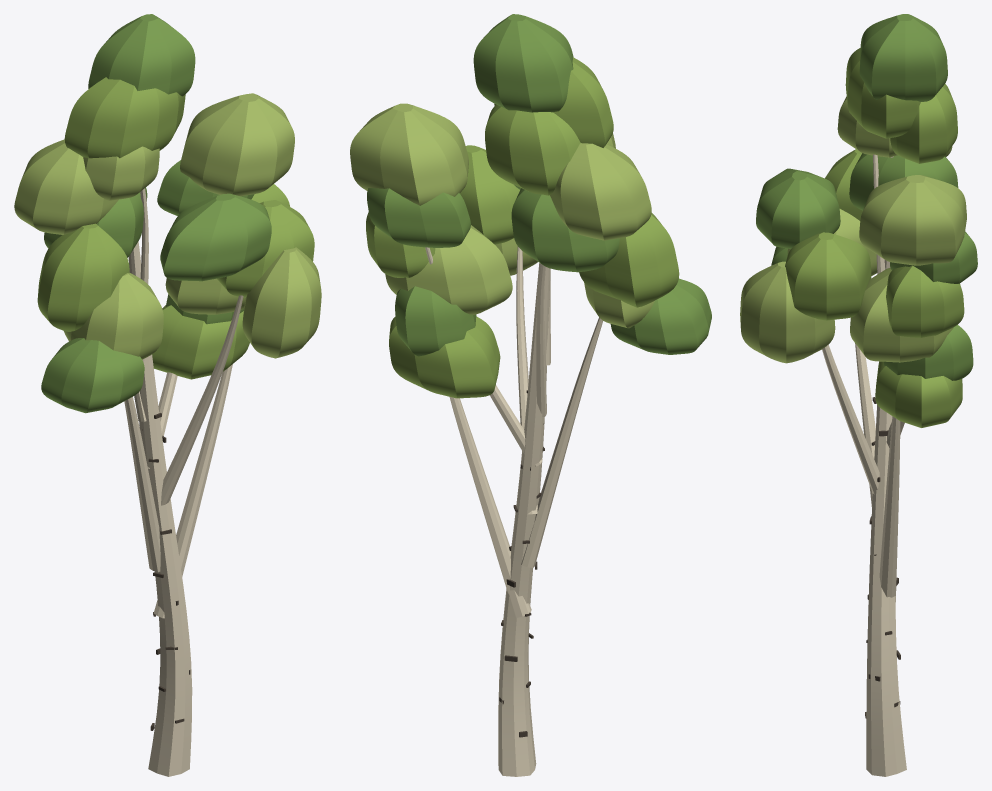
File: silver_birch.glb
3 renders of one model, left to right at view 1: azimuth 30°, elevation 25°; view 2: azimuth 150°, elevation 25°; view 3: azimuth 270°, elevation 25°, orthographic. The views are drawn at different scales.
Parts seen in each view (by area): view 1: Birch leader, Birch leaves 4.3, Birch leaves 3.3, Birch leaves 6.2, Birch leaves 2.3, Birch leaves 3.1, Birch leaves 5.2, Birch leaves 6.3, Birch leaves 2.1, Birch leaves 2.2, Birch leaves 1.1, Birch leaves 3.2 (+10 smaller); view 2: Birch leader, Birch leaves 4.3, Birch leaves 6.3, Birch leaves 5.2, Birch leaves 5.3, Birch leaves 1.3, Birch leaves 1.1, Birch leaves 2.3, Birch leaves 5.1, Birch leaves 4.2, Birch leaves 2.1, Birch leaves 1.2 (+10 smaller); view 3: Birch leader, Birch leaves 4.3, Birch leaves 6.3, Birch leaves 3.2, Birch leaves 3.1, Birch leaves 3.3, Birch leaves 4.1, Birch leaves 1.1, Birch leaves 1.3, Birch leaves 5.3, Birch leaves 6.2, Birch leaves 5.1 (+8 smaller).
Part boxes in pixels (bbox=[...]): Birch leader: bbox=[128, 241, 192, 776]; Birch leaves 4.3: bbox=[180, 93, 294, 196]; Birch leaves 3.3: bbox=[160, 193, 271, 281]; Birch leaves 6.2: bbox=[64, 77, 185, 158]; Birch leaves 2.3: bbox=[37, 223, 129, 331]; Birch leaves 3.1: bbox=[242, 247, 321, 358]; Birch leaves 5.2: bbox=[14, 139, 118, 234]; Birch leaves 6.3: bbox=[88, 14, 195, 96]; Birch leaves 2.1: bbox=[41, 338, 144, 413]; Birch leaves 2.2: bbox=[64, 273, 163, 359]; Birch leaves 1.1: bbox=[152, 305, 249, 379]; Birch leaves 3.2: bbox=[217, 200, 314, 297]; Birch leader: bbox=[498, 263, 550, 776]; Birch leaves 4.3: bbox=[350, 103, 468, 205]; Birch leaves 6.3: bbox=[473, 14, 573, 112]; Birch leaves 5.2: bbox=[550, 143, 651, 240]; Birch leaves 5.3: bbox=[485, 104, 580, 195]; Birch leaves 1.3: bbox=[385, 225, 512, 314]; Birch leaves 1.1: bbox=[389, 316, 500, 398]; Birch leaves 2.3: bbox=[579, 213, 679, 307]; Birch leaves 5.1: bbox=[511, 188, 619, 272]; Birch leaves 4.2: bbox=[367, 188, 470, 247]; Birch leaves 2.1: bbox=[610, 278, 711, 354]; Birch leaves 1.2: bbox=[395, 286, 476, 356]; Birch leader: bbox=[866, 156, 906, 776]; Birch leaves 4.3: bbox=[859, 175, 966, 265]; Birch leaves 6.3: bbox=[859, 14, 947, 101]; Birch leaves 3.2: bbox=[785, 232, 871, 320]; Birch leaves 3.1: bbox=[740, 261, 835, 363]; Birch leaves 3.3: bbox=[756, 168, 840, 248]; Birch leaves 4.1: bbox=[886, 265, 964, 337]; Birch leaves 1.1: bbox=[875, 361, 962, 427]; Birch leaves 1.3: bbox=[850, 268, 953, 362]; Birch leaves 5.3: bbox=[890, 83, 957, 163]; Birch leaves 6.2: bbox=[845, 48, 920, 138]; Birch leaves 5.1: bbox=[849, 153, 958, 210].
Bounding box in the file's own units: 3.5 × 8.7 × 2.51.
